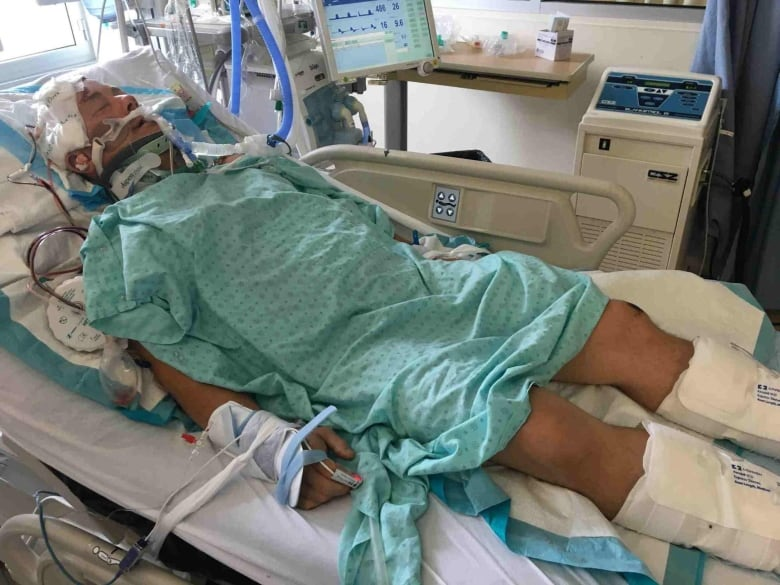patient: (30, 75, 222, 255)
